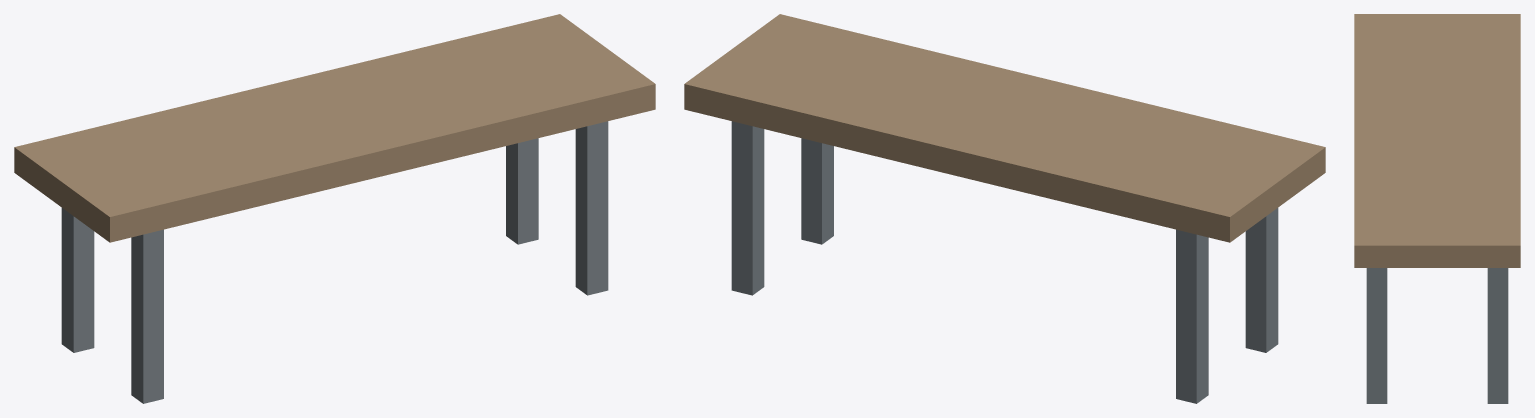
File: COR-006.glb
3 renders of one model, left to right at view 1: azimuth 30°, elevation 25°; view 2: azimuth 150°, elevation 25°; view 3: azimuth 270°, elevation 25°, orthographic. The views are drawn at different scales.
Visible parts, largest first — view 1: 000_Bench_top, 003_Bench_legs, 001_Bench_legs, 002_Bench_legs, 004_Bench_legs; view 2: 000_Bench_top, 004_Bench_legs, 002_Bench_legs, 001_Bench_legs, 003_Bench_legs; view 3: 000_Bench_top, 003_Bench_legs, 004_Bench_legs.
Boxes of the visible parts, x1=… form: 000_Bench_top: x1=14, y1=14, x2=655, y2=242; 003_Bench_legs: x1=575, y1=121, x2=608, y2=295; 001_Bench_legs: x1=131, y1=229, x2=163, y2=403; 002_Bench_legs: x1=61, y1=208, x2=94, y2=352; 004_Bench_legs: x1=506, y1=138, x2=538, y2=244; 000_Bench_top: x1=684, y1=14, x2=1325, y2=242; 004_Bench_legs: x1=731, y1=121, x2=764, y2=295; 002_Bench_legs: x1=1176, y1=229, x2=1208, y2=403; 001_Bench_legs: x1=1245, y1=208, x2=1278, y2=352; 003_Bench_legs: x1=801, y1=138, x2=833, y2=244; 000_Bench_top: x1=1354, y1=14, x2=1520, y2=267; 003_Bench_legs: x1=1366, y1=268, x2=1387, y2=403; 004_Bench_legs: x1=1487, y1=268, x2=1508, y2=403.
Bounding box in the file's own units: 1.45 × 0.5125 × 0.44.
